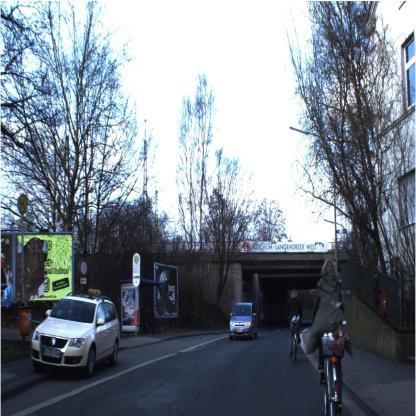prohibitory: (78, 258, 90, 280)
